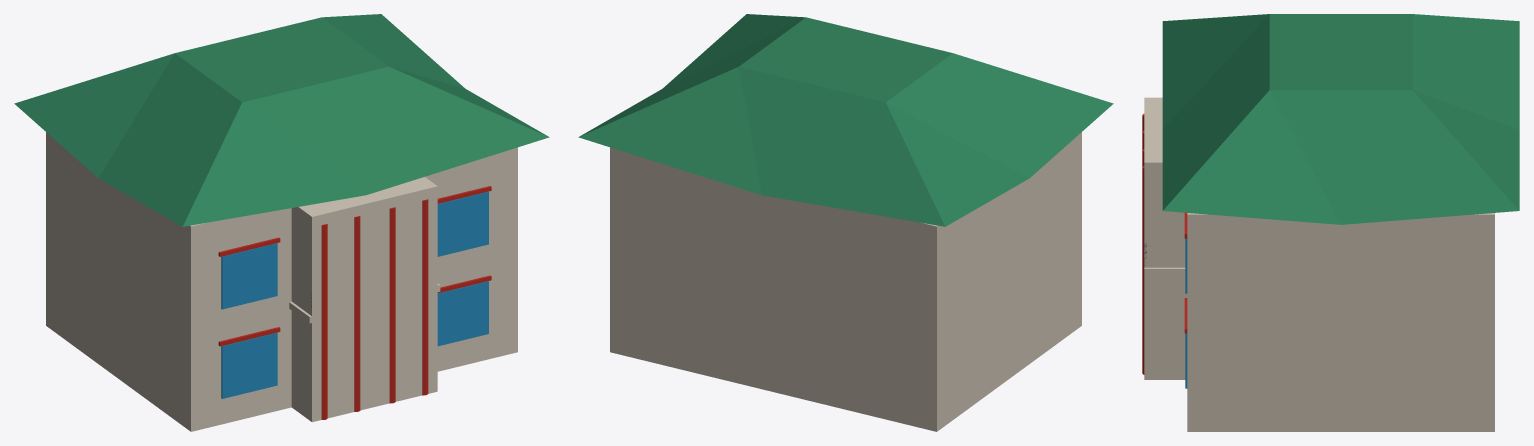
File: building_eastyork_s3_cantonese_mansion.glb
The picture shows the model from 3 angles, left to right: view 1: azimuth 30°, elevation 25°; view 2: azimuth 150°, elevation 25°; view 3: azimuth 270°, elevation 25°; orthographic projection. The views are drawn at different scales.
Visible parts, largest first — view 1: building_eastyork_s3_cantonese_mansion; view 2: building_eastyork_s3_cantonese_mansion; view 3: building_eastyork_s3_cantonese_mansion.
Part boxes in pixels (<box>): building_eastyork_s3_cantonese_mansion: <box>14,14,549,431</box>; building_eastyork_s3_cantonese_mansion: <box>578,14,1113,431</box>; building_eastyork_s3_cantonese_mansion: <box>1142,14,1519,431</box>.
Bounding box in the file's own units: 14.6 × 10.6 × 12.26.
1 material, 1 textured.
